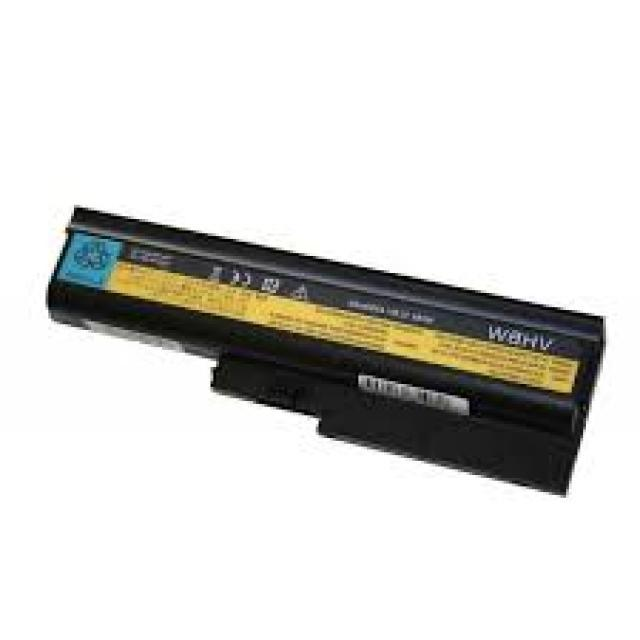battery: (46, 208, 604, 492)
